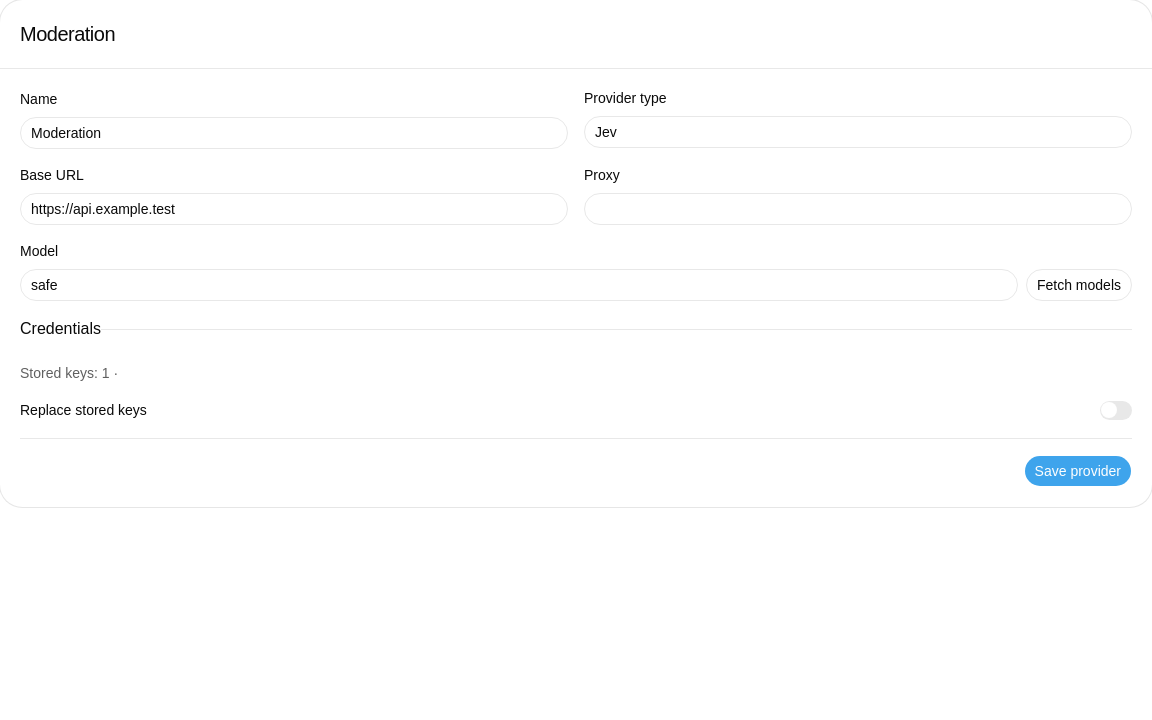
Test: keeps a model-fetch failure visible and clears it after a successful retry
Click the button "Fetch models".
click(1079, 285)  # box [1026, 269, 1132, 301]
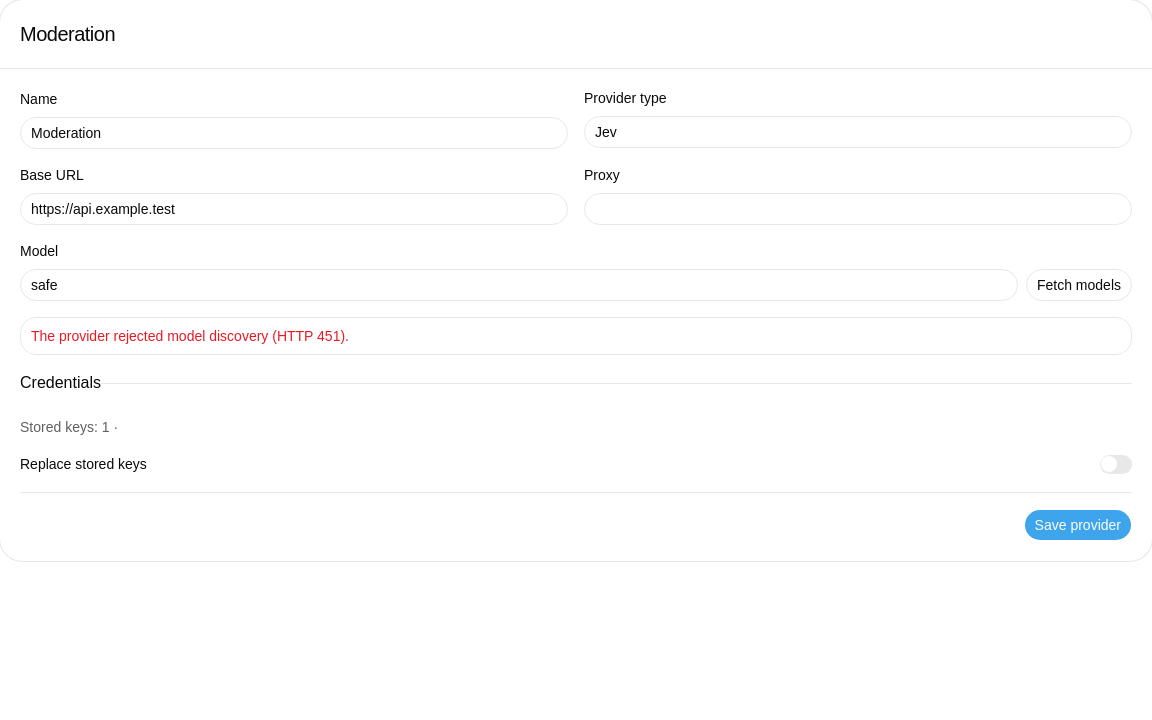
Check: the message reads "The provider rejected model discovery (HTTP 451).", box [31, 328, 349, 344]
Click the button "Fetch models".
click(1079, 285)  # box [1026, 269, 1132, 301]
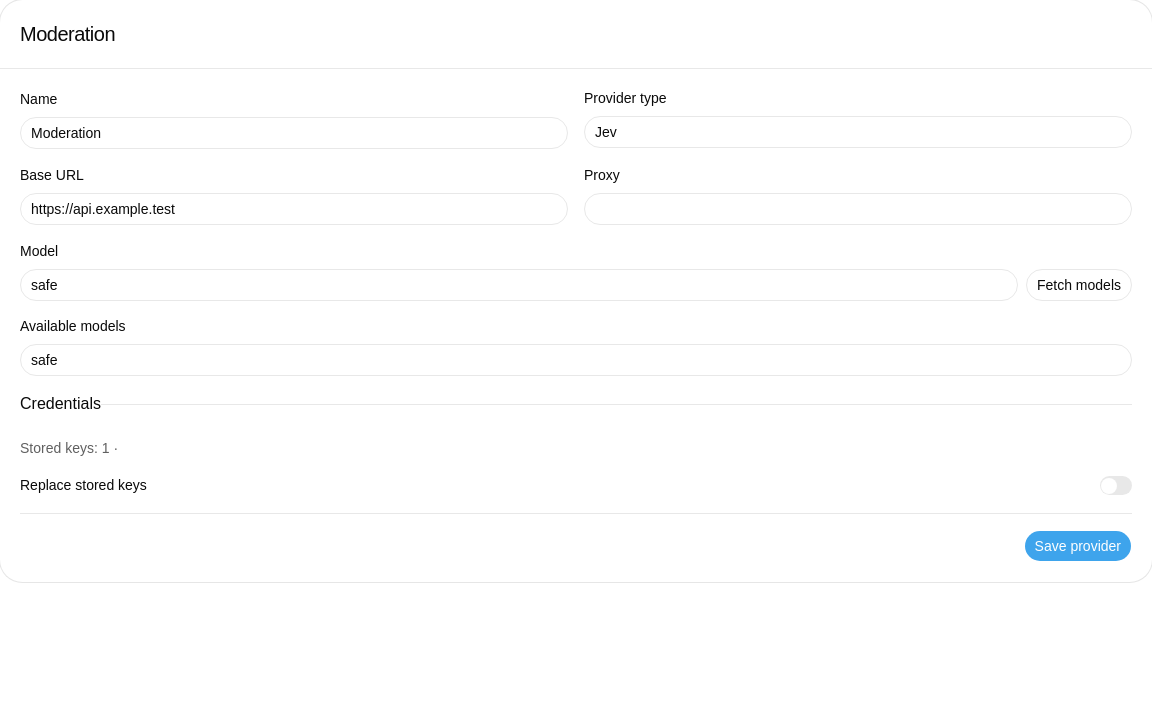
Check: the dropdown labelled "Available models" is shown
Check: the message "The provider rejected model discovery (HTTP 451)." is gone
Select "safe-latest" in the dropdown labelled "Available models" at (576, 360), box [20, 344, 1132, 376]
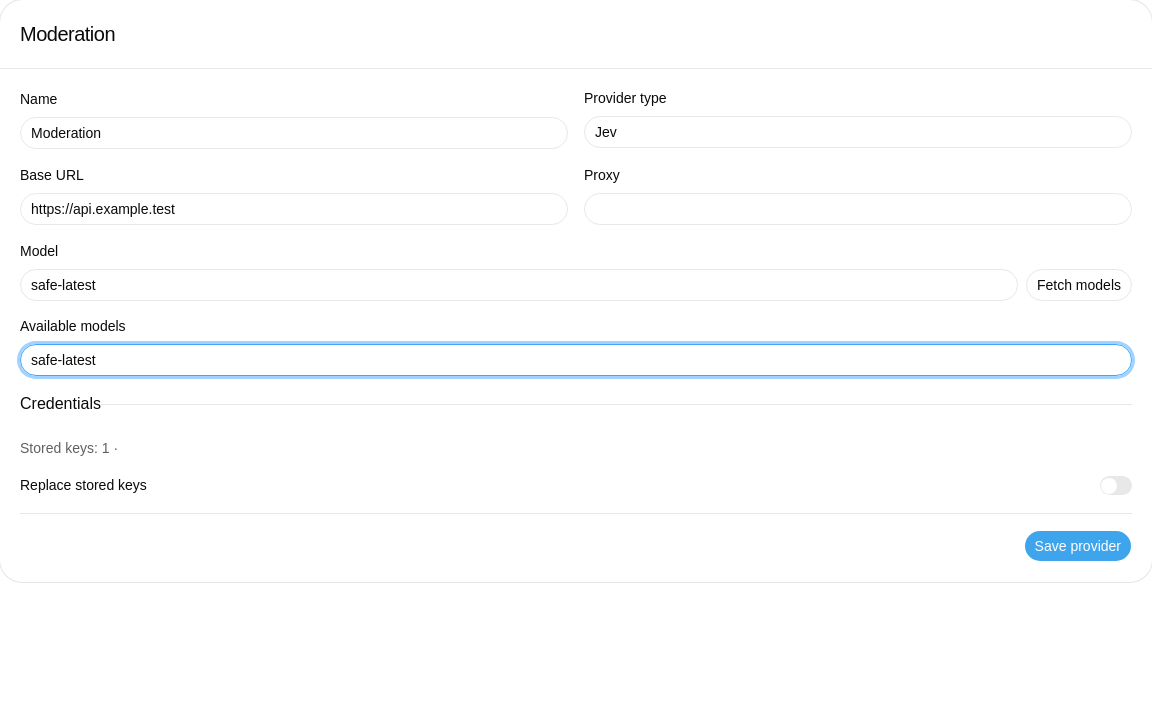
Check: the field named "Model" holds "safe-latest", box [20, 269, 1018, 301]
